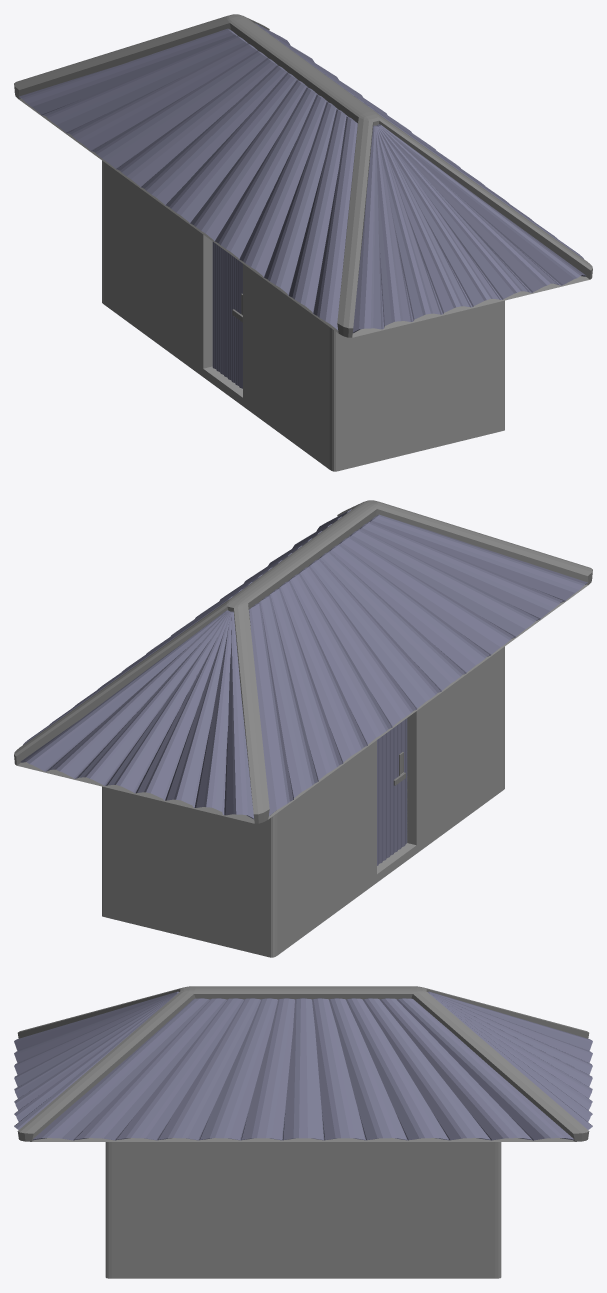
The model's file is CorrugatedHouse_DoorhandleFix.fbx.
3 renders of one model, top to bottom at view 1: azimuth 30°, elevation 25°; view 2: azimuth 150°, elevation 25°; view 3: azimuth 270°, elevation 25°, orthographic. The views are drawn at different scales.
Parts seen in each view (by area): view 1: corrugated roof, wall, roof base, door; view 2: corrugated roof, wall, roof base, door; view 3: corrugated roof, wall, roof base.
Part boxes in pixels (x1,y1,x2,y2): corrugated roof: [19, 23, 586, 333]; wall: [102, 160, 504, 471]; roof base: [14, 14, 592, 337]; door: [212, 242, 242, 388]; corrugated roof: [20, 509, 587, 819]; wall: [102, 646, 504, 957]; roof base: [14, 500, 592, 823]; door: [377, 718, 407, 865]; corrugated roof: [14, 991, 592, 1140]; wall: [105, 1142, 501, 1278]; roof base: [17, 986, 589, 1141].
Bounding box in the file's own units: 304 × 335 × 690.
